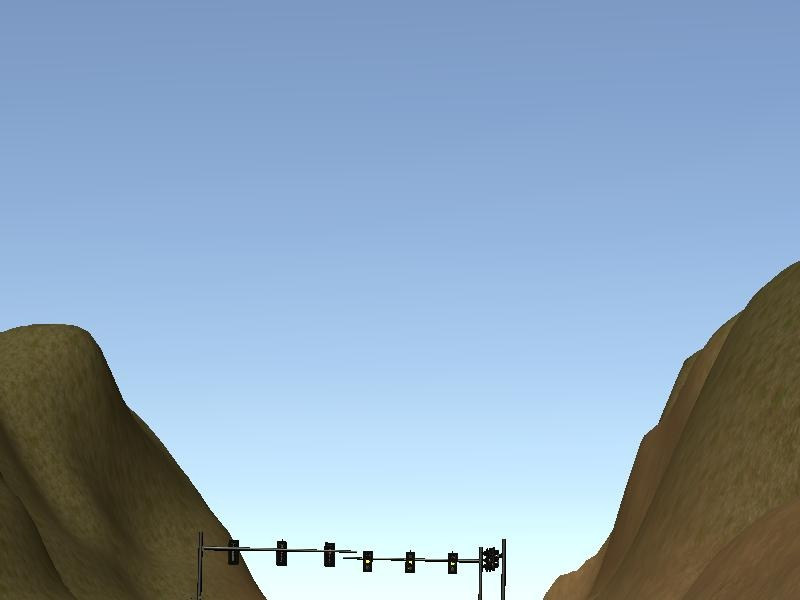traffic_light_yellow: (348, 549, 481, 576)
